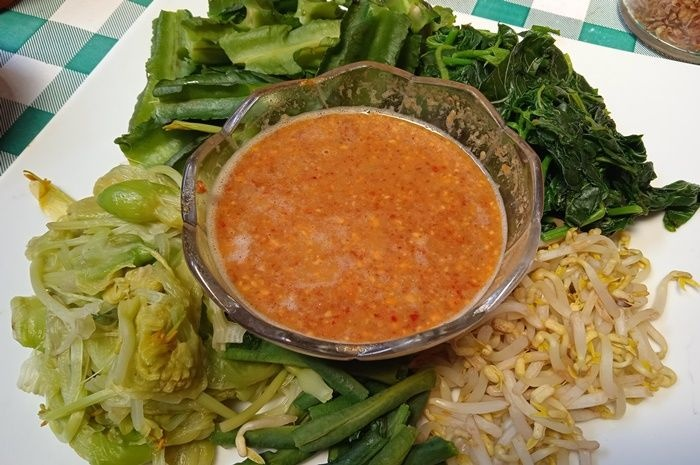pecel: (29, 5, 650, 439)
